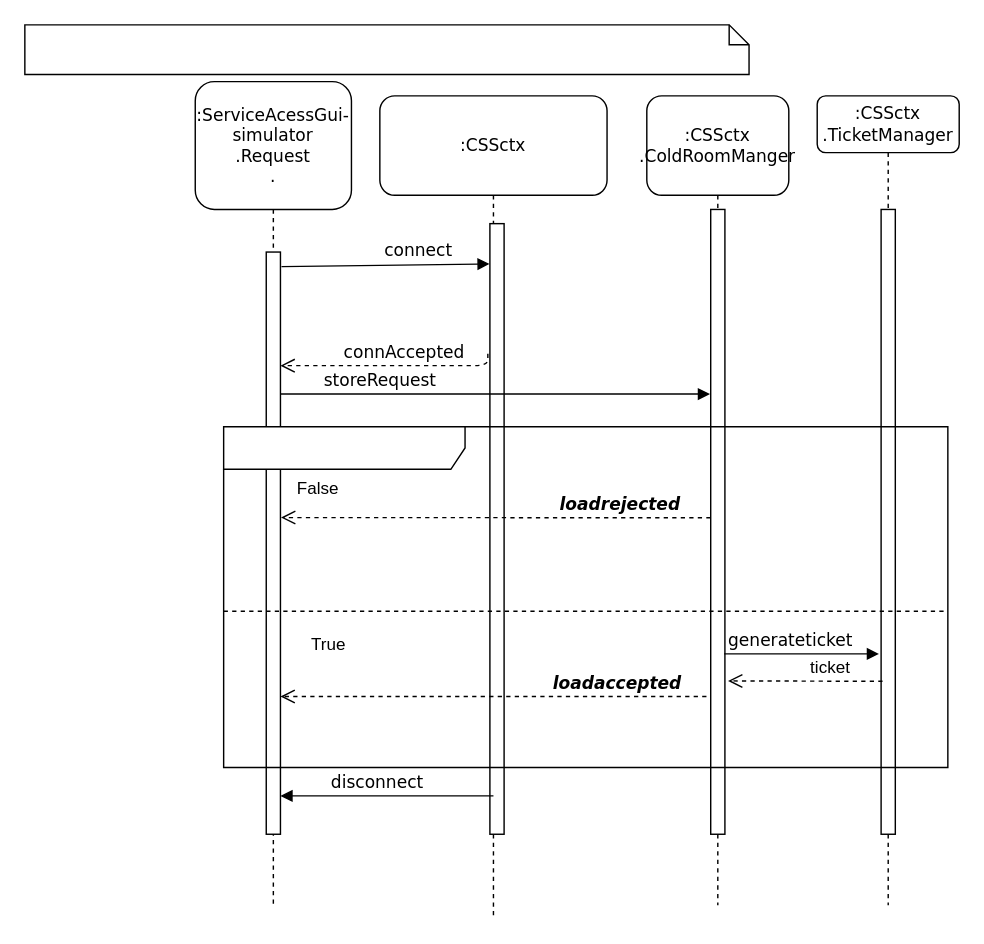
Image size: 984x944. Some labels were removed from this diagram. The shapes that lost their labels are listed below. From the top down, each one's box as (x1, y1, x2, y2) in pixels, then its label:
(23, 23, 749, 75): Possibili interazioni CSS <->SAG-simulator a seguito di una store request
(222, 425, 948, 768): TruckLoad<=FreeSpace
